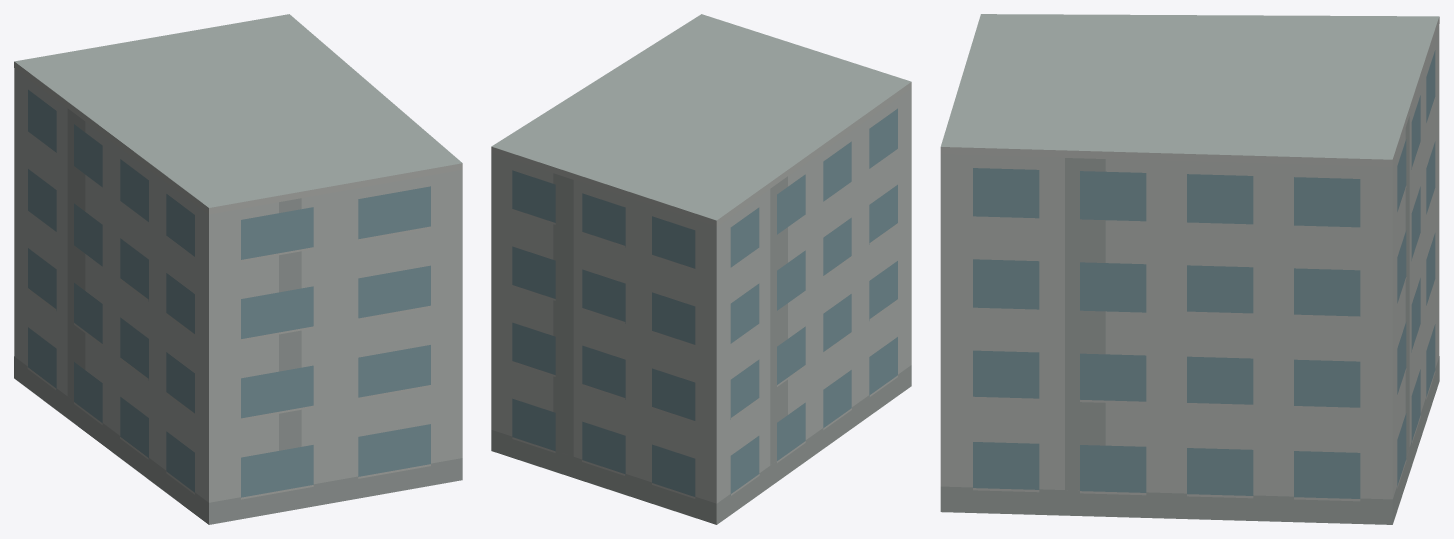
File: residential-0b6231f1-bda4-4211-9005-f9ef41767875.glb
The picture shows the model from 3 angles, left to right: view 1: azimuth 30°, elevation 25°; view 2: azimuth 150°, elevation 25°; view 3: azimuth 270°, elevation 25°; orthographic projection. The views are drawn at different scales.
Visible parts, largest first — view 1: residential-0b6231f1-bda4-4211-9005-f9ef41767875.tmp; view 2: residential-0b6231f1-bda4-4211-9005-f9ef41767875.tmp; view 3: residential-0b6231f1-bda4-4211-9005-f9ef41767875.tmp.
Boxes of the visible parts, x1,y1,x2,y2 form: residential-0b6231f1-bda4-4211-9005-f9ef41767875.tmp: (14, 14, 462, 524); residential-0b6231f1-bda4-4211-9005-f9ef41767875.tmp: (491, 14, 911, 524); residential-0b6231f1-bda4-4211-9005-f9ef41767875.tmp: (940, 14, 1439, 524).
Bounding box in the file's own units: 10.11 × 11.8 × 14.62.
